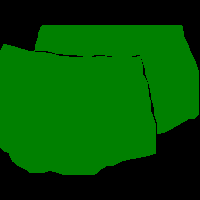mutande: (0, 43, 156, 175), (34, 24, 199, 134)
